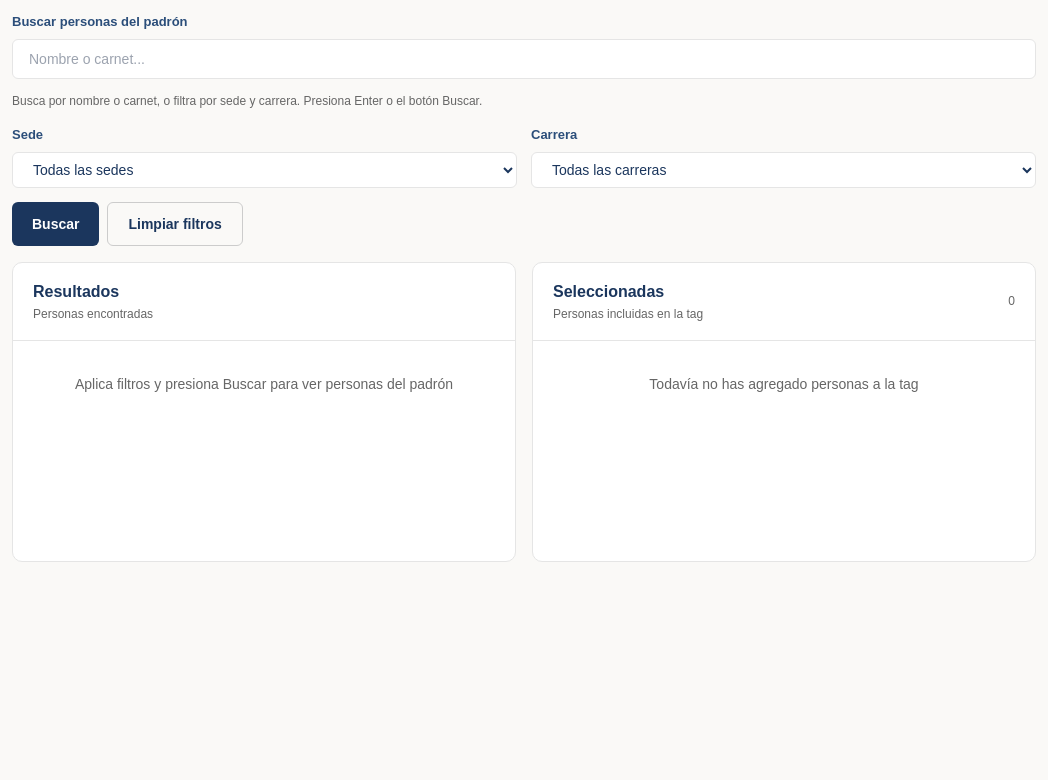
TagMembersEditor › clears filters when clear button is clicked
Type "search text" into the field with placeholder "Nombre o carnet...". click: (524, 59)
box: x1=12 y1=39 x2=1036 y2=79
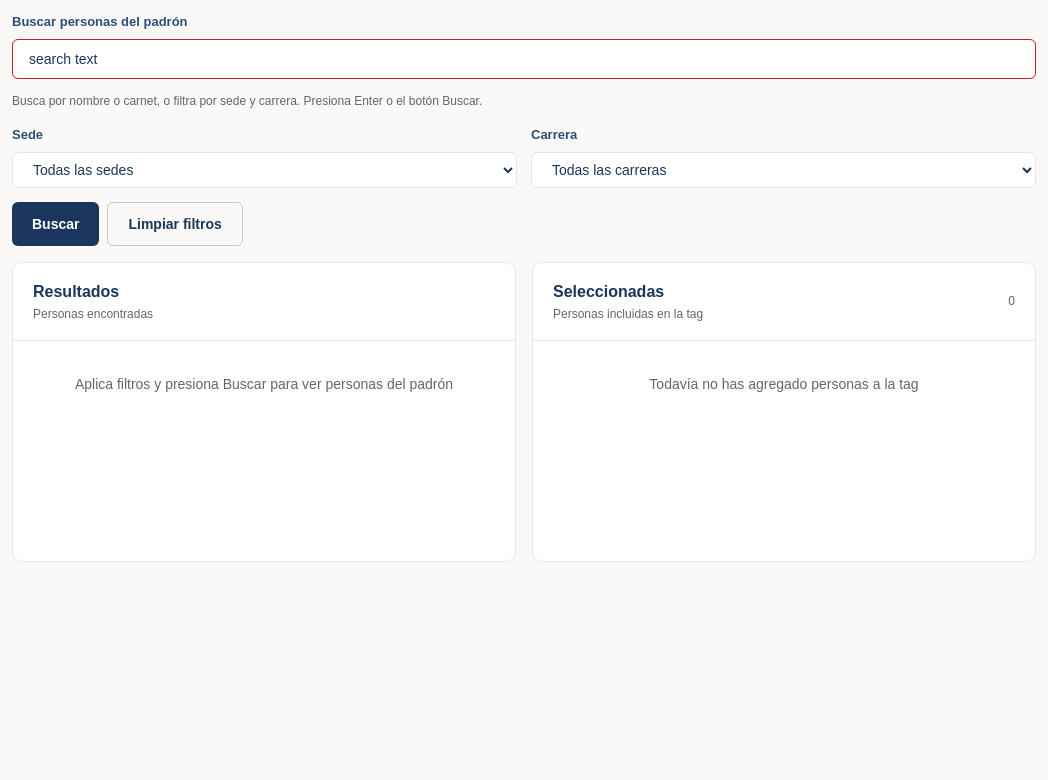
Click the button "Limpiar filtros". click: (175, 224)
box: x1=108 y1=202 x2=243 y2=246
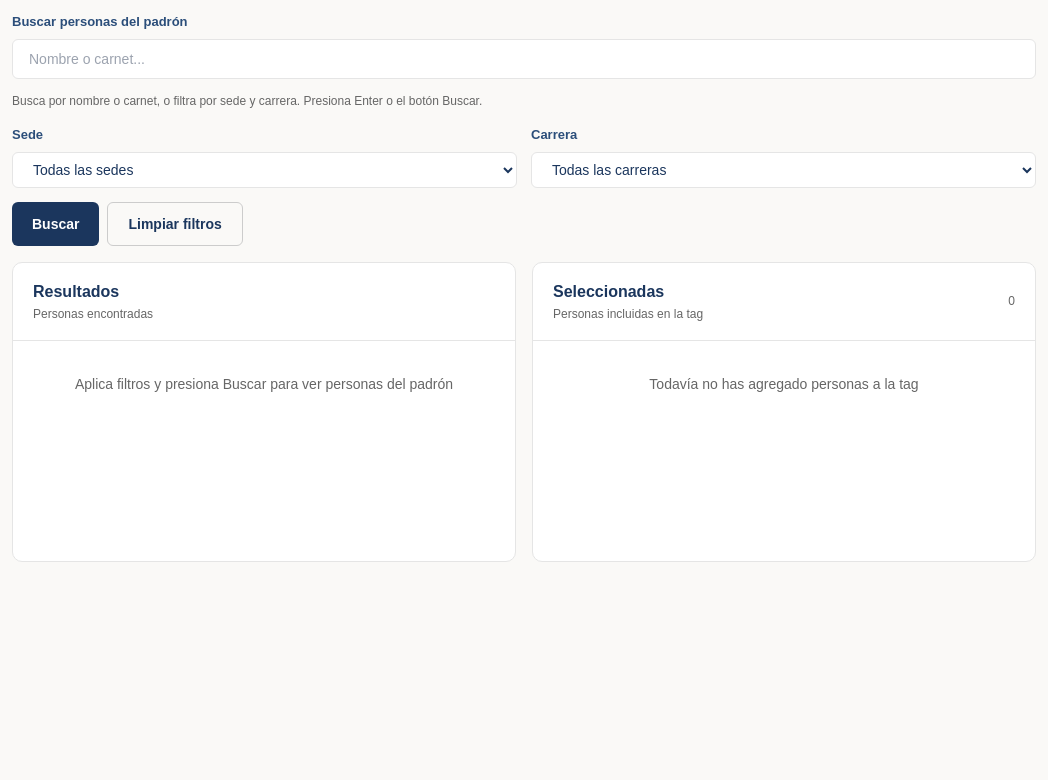
expect the field with placeholder "Nombre o carnet..." is empty: met, box x1=12 y1=39 x2=1036 y2=79
